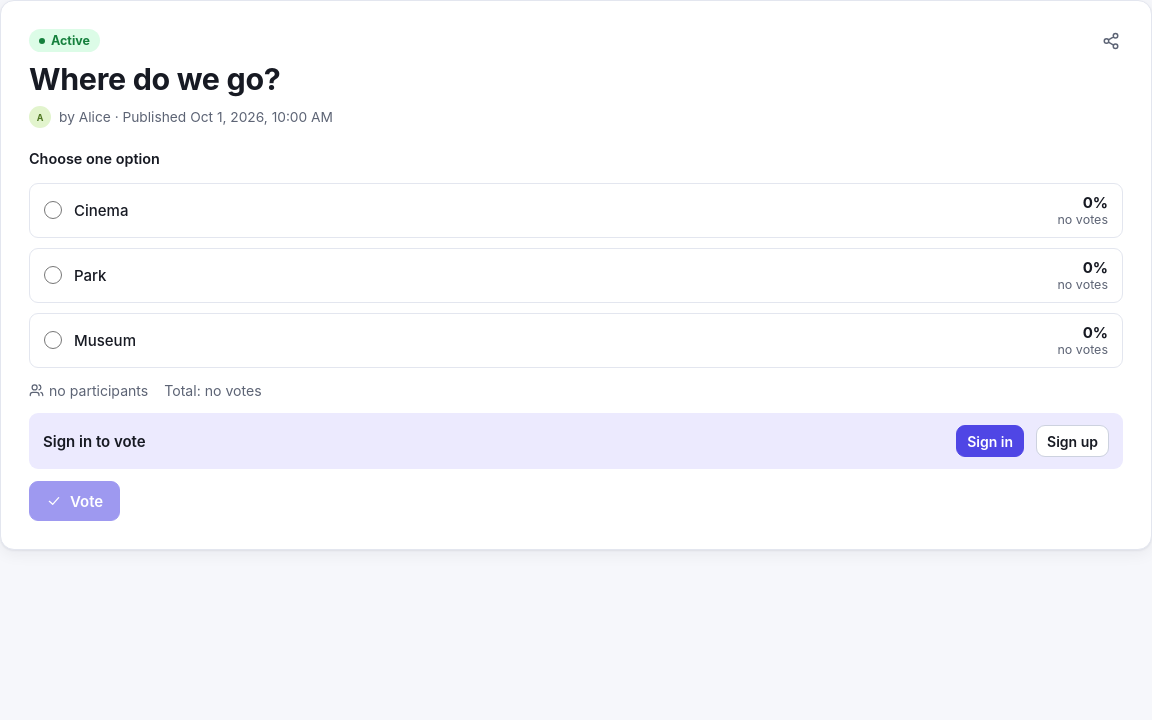
Test: SurveyView voting › sends the selection and shows the result returned by the API
Click the radio button labelled "Park 0% no votes": click(53, 275) [44,266,62,284]
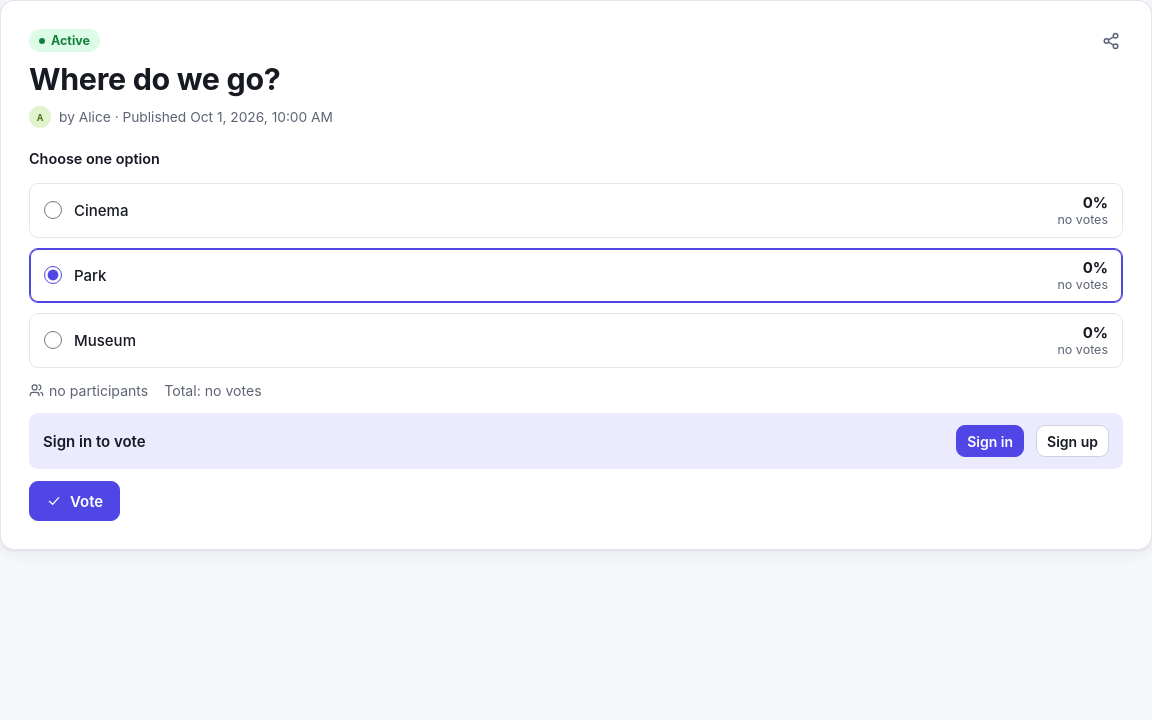
Click the button "Vote": click(75, 502) [29,482,120,522]
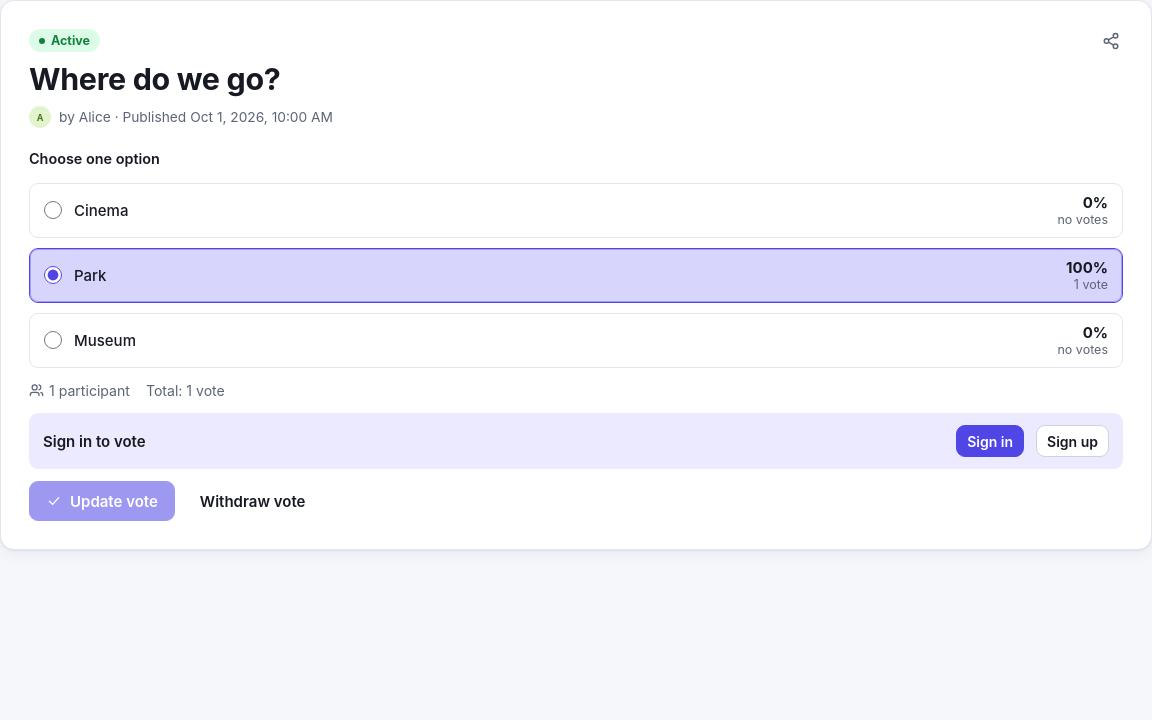
Now the text "100%" is shown, box [1066,259,1108,277]
Now the text "Update vote" is shown, box [29,482,175,522]
